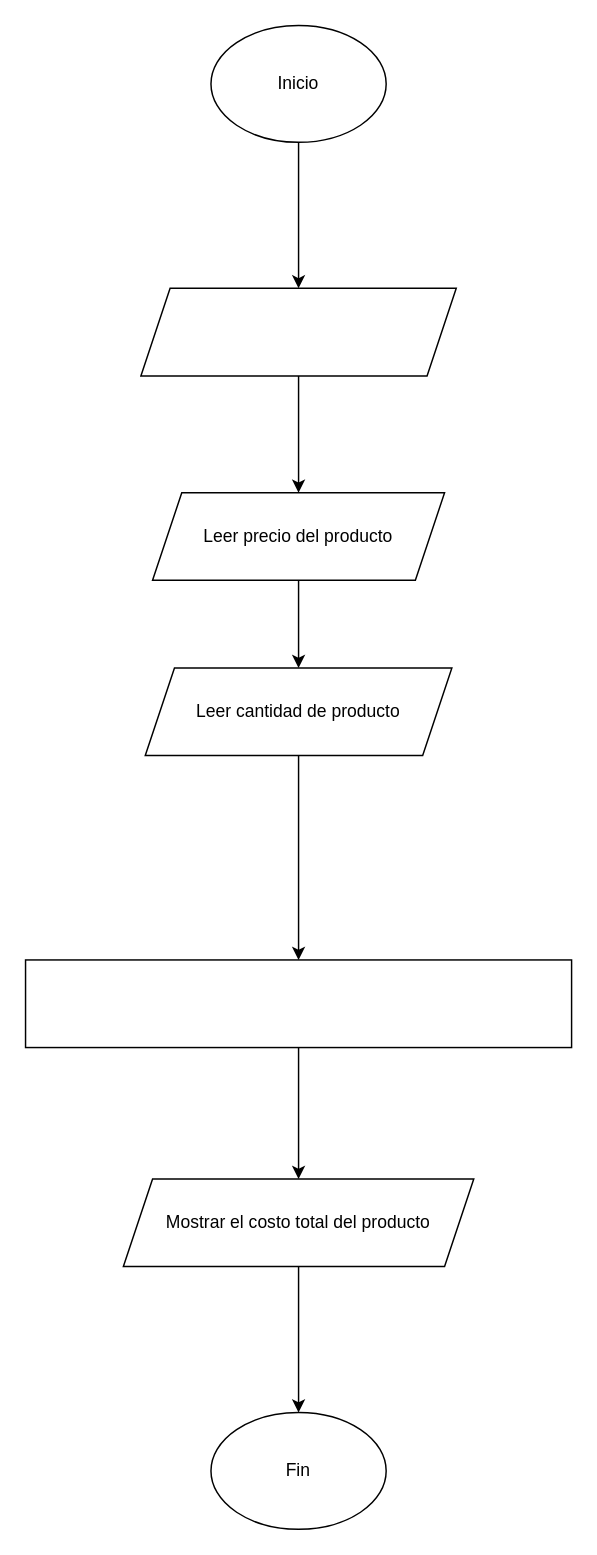
This 597x1555 diagram has some shape labels left out. The shapes that lost their labels are listed below. From the top down, each one's box as (x1, y1, x2, y2) in pixels, then its label:
(139, 287, 456, 376): Leer Nombre del producto
(24, 958, 572, 1048): Calcular el costo total del precio por la cantidad del producto
